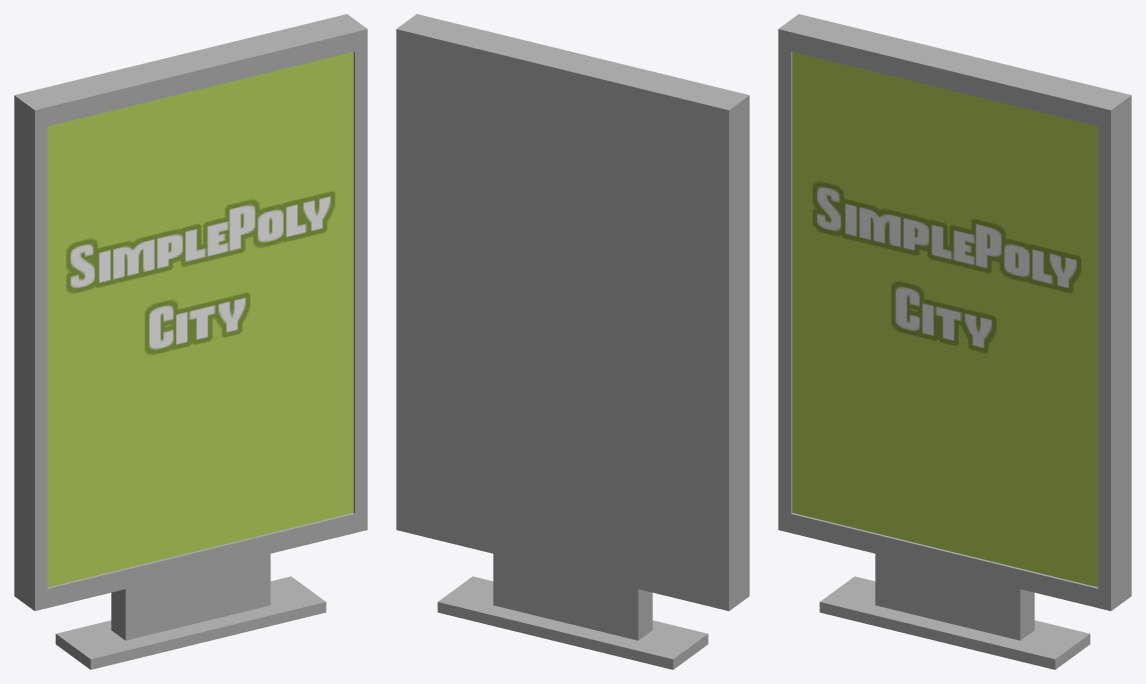
File: props-billboard-small.glb
3 views of the same model, side by side, from view 1: azimuth 30°, elevation 25°; view 2: azimuth 150°, elevation 25°; view 3: azimuth 330°, elevation 25° (orthographic).
Parts seen in each view (by area): view 1: model; view 2: model; view 3: model.
Part boxes in pixels (x1,y1,x2,y2): model: [14, 14, 367, 669]; model: [396, 14, 749, 669]; model: [778, 14, 1131, 669].
Size of the model in its own units: 1.61 by 2.62 by 0.2935.
Materials: 1 (1 with a texture image).
